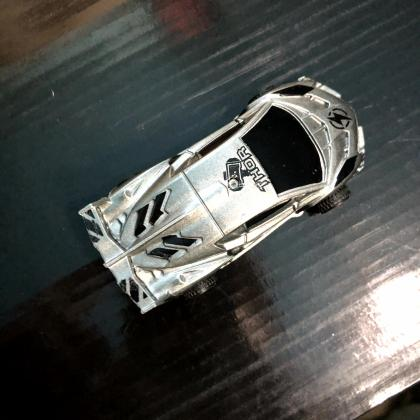Car: (78, 77, 367, 316)
